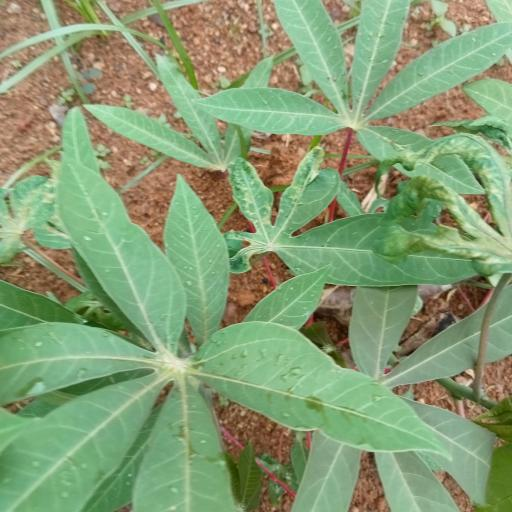Cassava_Mosaic: (0, 162, 446, 506), (204, 0, 510, 185), (223, 145, 351, 278)
